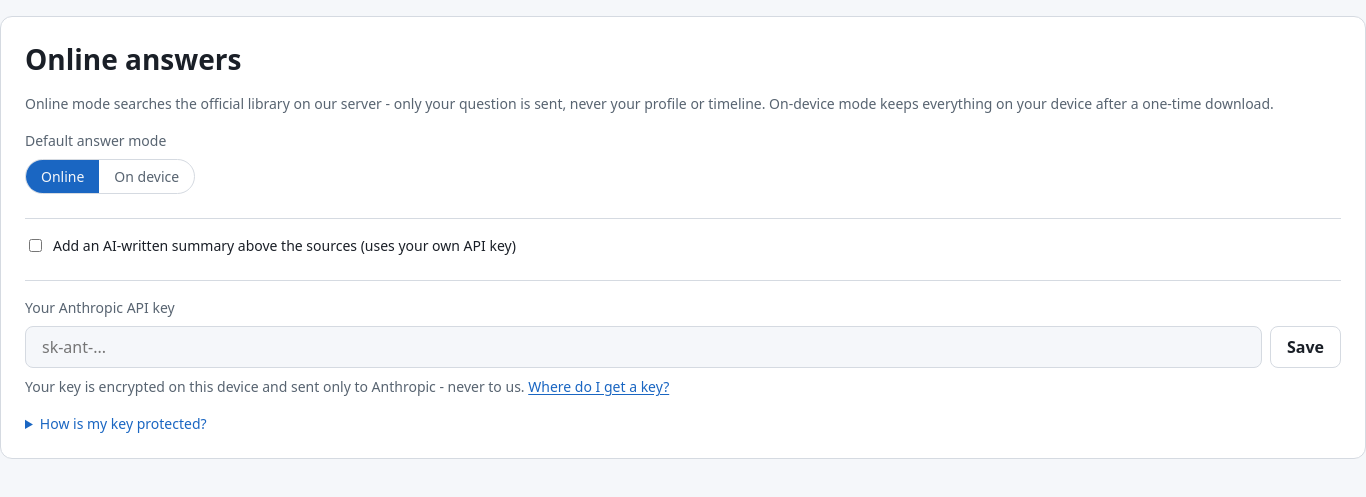
Scenario: OnlineAnswersPanel › when the key cannot be saved or removed › takes the line away when the next save starts
In the password field with class "online-key__input": {"x": 644, "y": 347} [25,326,1262,368], type "sk-ant-one"
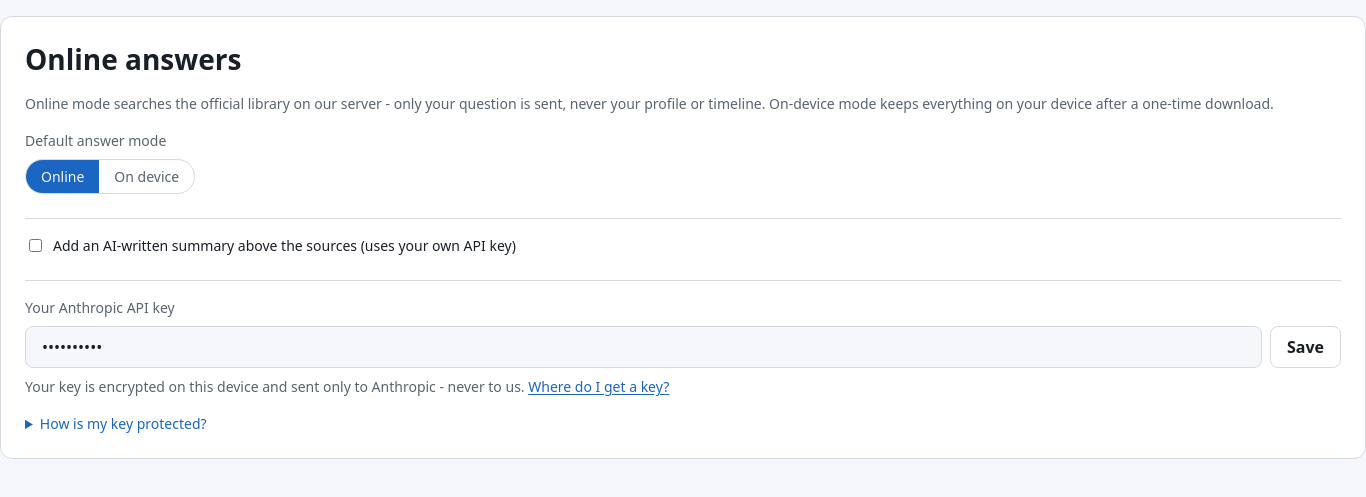
Click the button with class "online-key__save": {"x": 1306, "y": 347} [1270,326,1341,368]
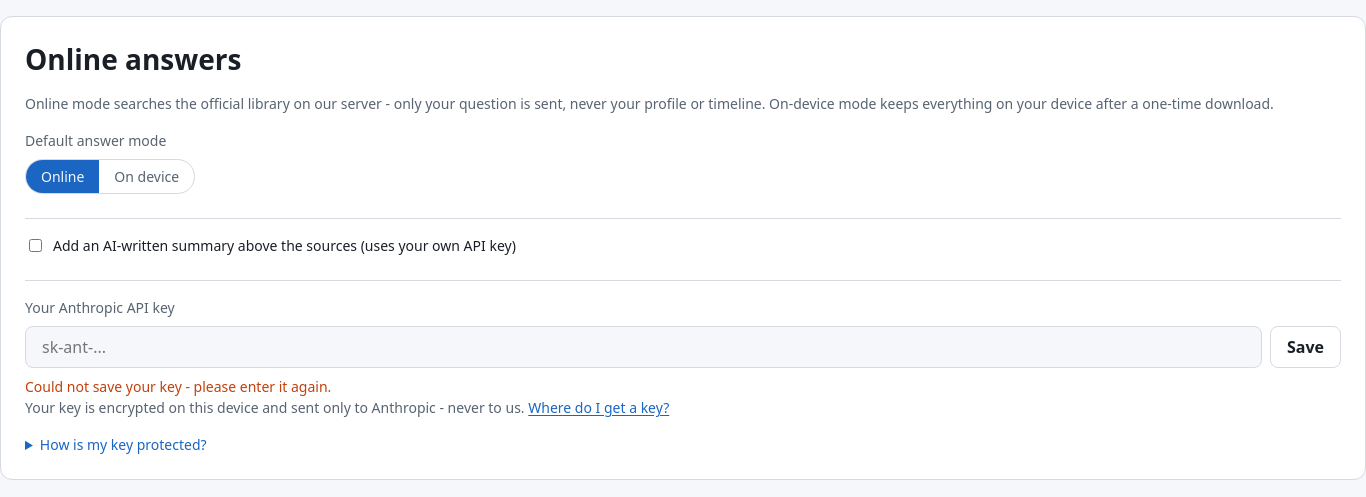
Check: the message with class "online-key__error" reads "Could not save your key - please enter it again.", box [25,377,331,396]
In the password field with class "online-key__input": {"x": 644, "y": 347} [25,326,1262,368], type "sk-ant-two"
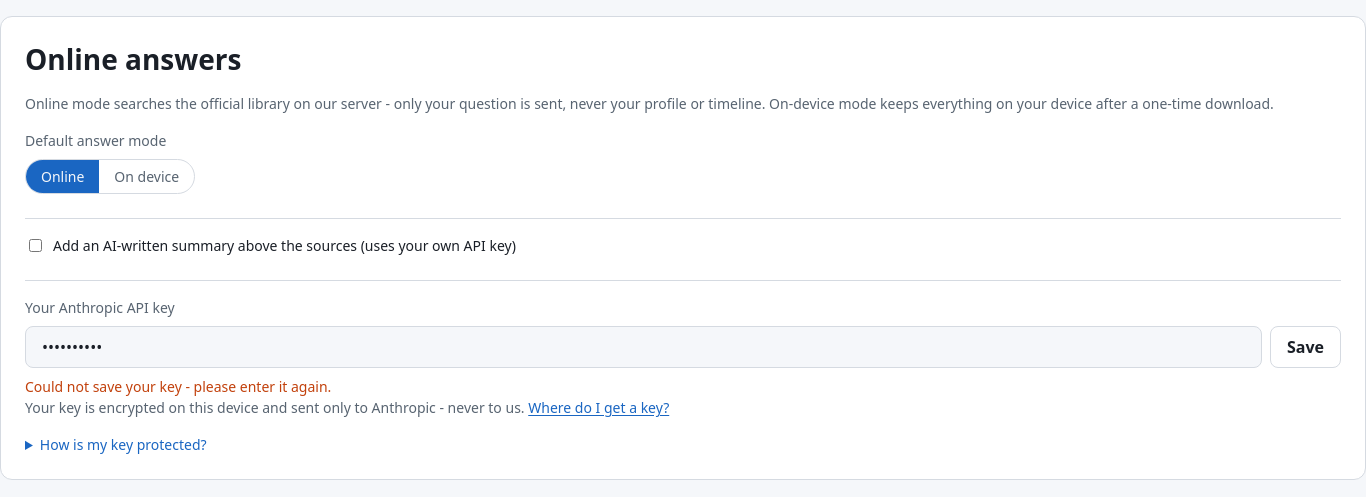
Click the button with class "online-key__save": {"x": 1306, "y": 347} [1270,326,1341,368]
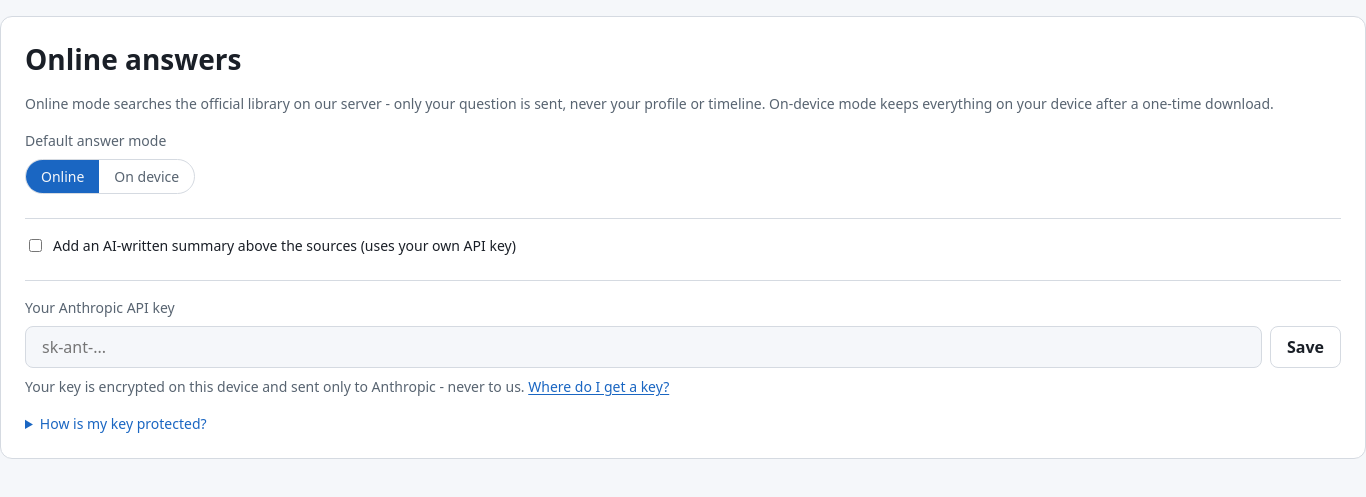
Check: the message with class "online-key__error" is gone
